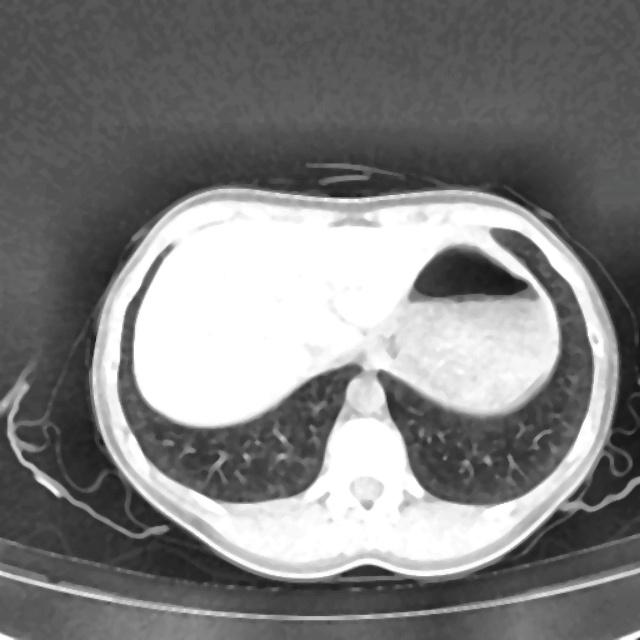covid: (87, 177, 626, 583)
